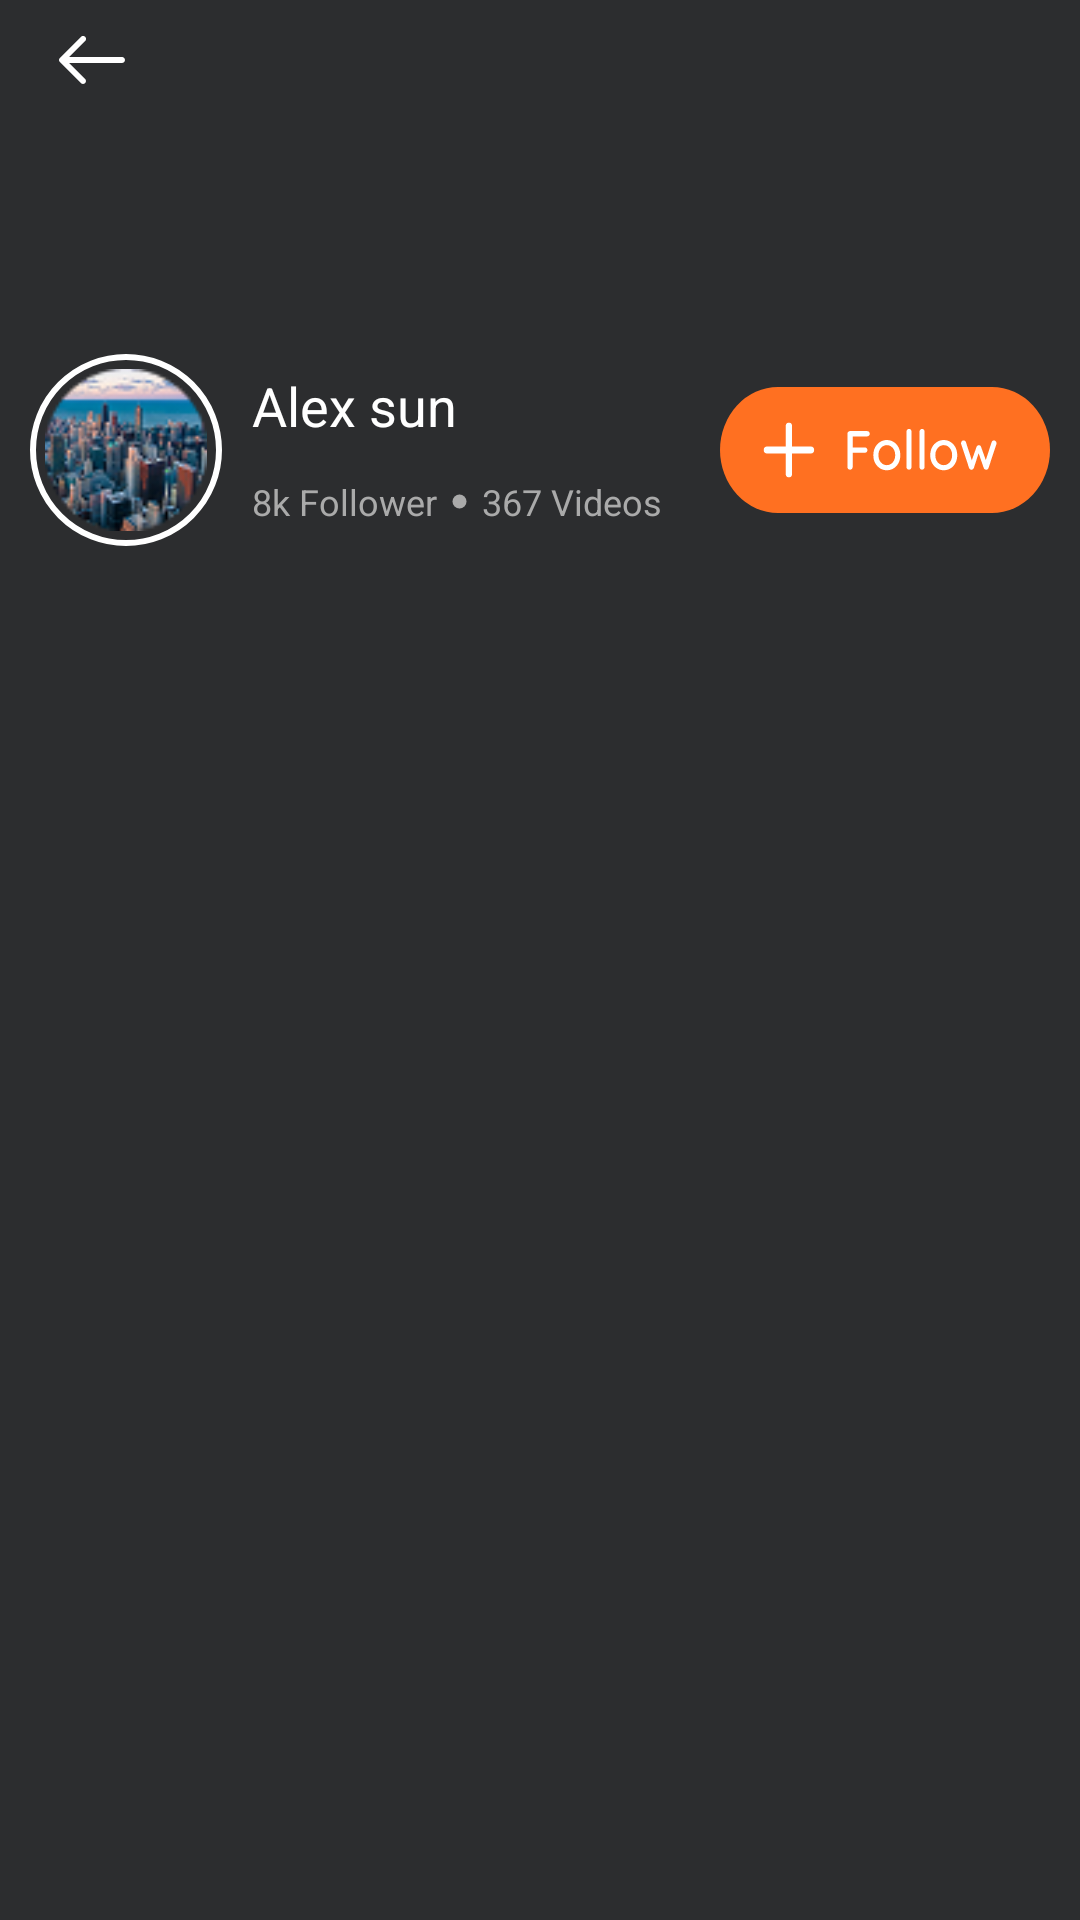

Icons on this 1080px x 1920px Android screen, each with the point to tap as point (x, y):
navigation back: point (92, 60)
